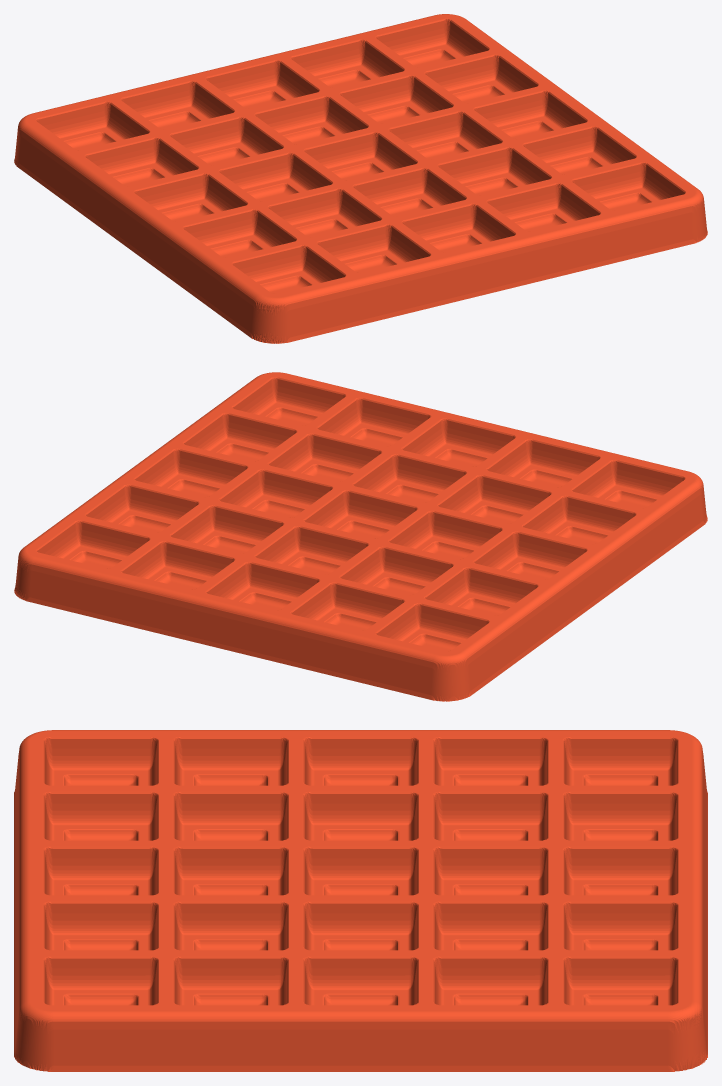
The model's file is mold.glb.
3 renders of one model, top to bottom at view 1: azimuth 30°, elevation 25°; view 2: azimuth 150°, elevation 25°; view 3: azimuth 270°, elevation 25°, orthographic. The views are drawn at different scales.
Parts seen in each view (by area): view 1: geometry_0; view 2: geometry_0; view 3: geometry_0.
Part boxes in pixels (x1=…): geometry_0: x1=14, y1=14, x2=707, y2=343; geometry_0: x1=14, y1=372, x2=707, y2=701; geometry_0: x1=14, y1=730, x2=707, y2=1071.
Bounding box in the file's own units: 0.1584 × 0.0136 × 0.1584.
